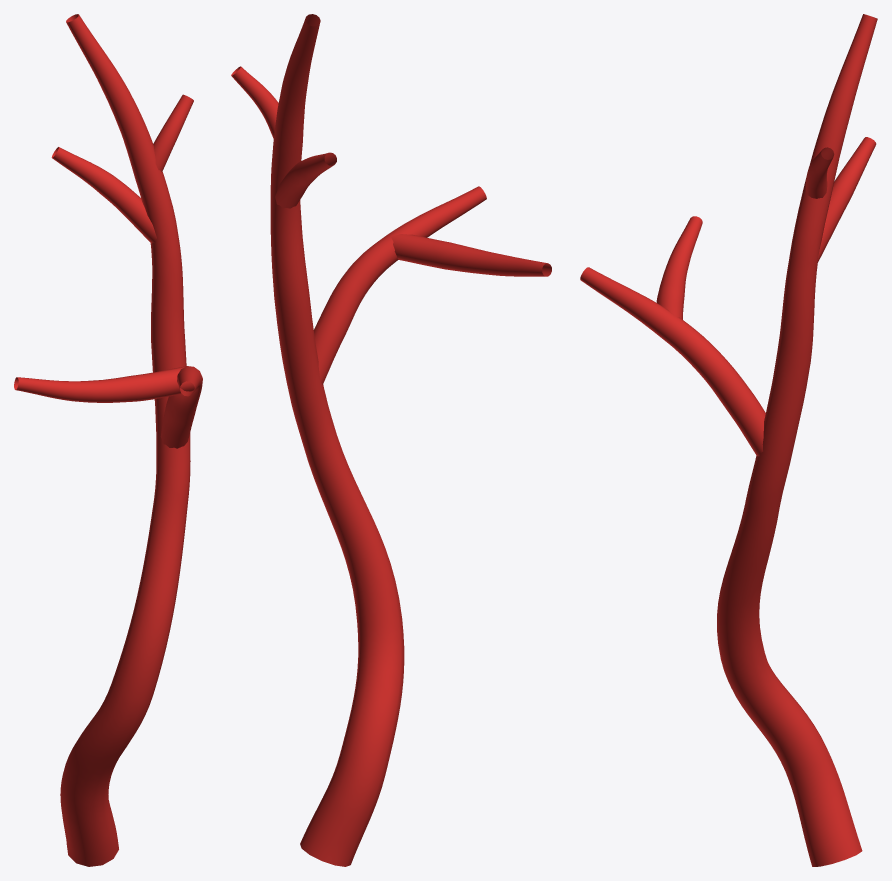
The model's file is circulatorio-apical-vein-of-right-lung.glb.
3 views of the same model, side by side, from view 1: azimuth 30°, elevation 25°; view 2: azimuth 150°, elevation 25°; view 3: azimuth 270°, elevation 25° (orthographic). The views are drawn at different scales.
Visible parts, largest first — view 1: Apical vein of right lung; view 2: Apical vein of right lung; view 3: Apical vein of right lung.
Part boxes in pixels (x1,y1,x2,y2): Apical vein of right lung: (14,14,202,866); Apical vein of right lung: (231,14,551,866); Apical vein of right lung: (580,14,877,866).
Bounding box in the file's own units: 0.0295 × 0.0966 × 0.0306.
